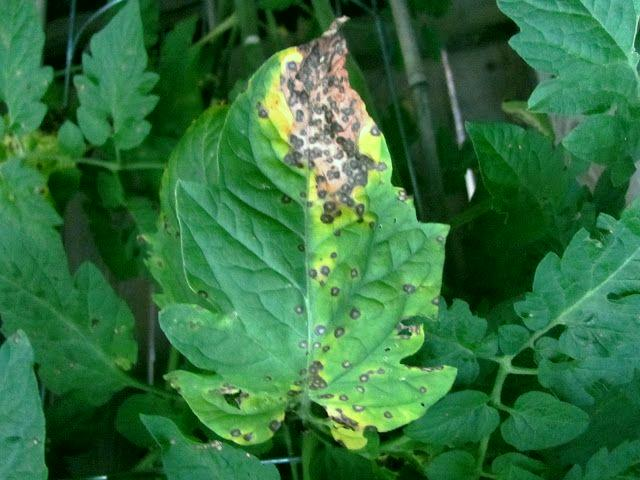Tomato Septoria leaf spot: (165, 14, 466, 441)
